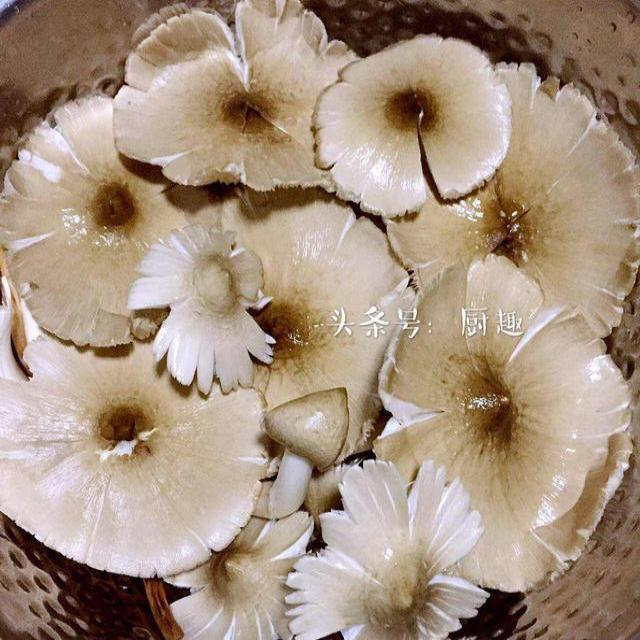Collybia albuminosa: (379, 256, 633, 593), (386, 64, 640, 335), (0, 338, 267, 576), (111, 2, 369, 197), (0, 98, 190, 347), (313, 34, 513, 217), (286, 464, 492, 637), (133, 231, 278, 394)
